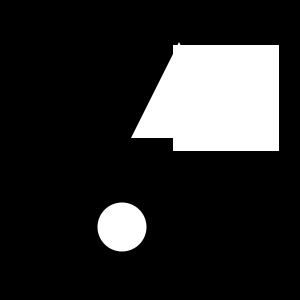circle: (173, 45, 279, 151)
rectangle: (98, 202, 146, 252)
triangle: (131, 42, 227, 138)
